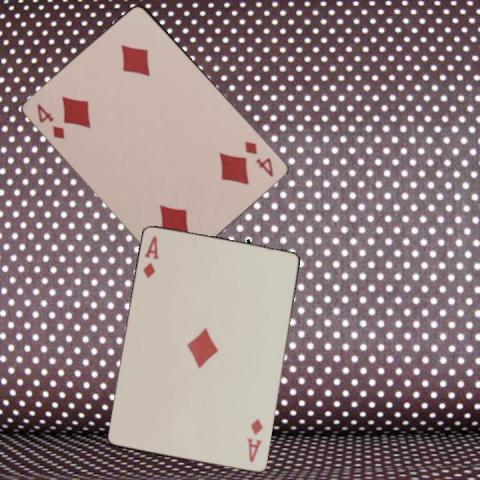4d: (242, 138, 275, 179), (34, 100, 67, 140)
Ad: (140, 233, 161, 280), (244, 415, 264, 464)
